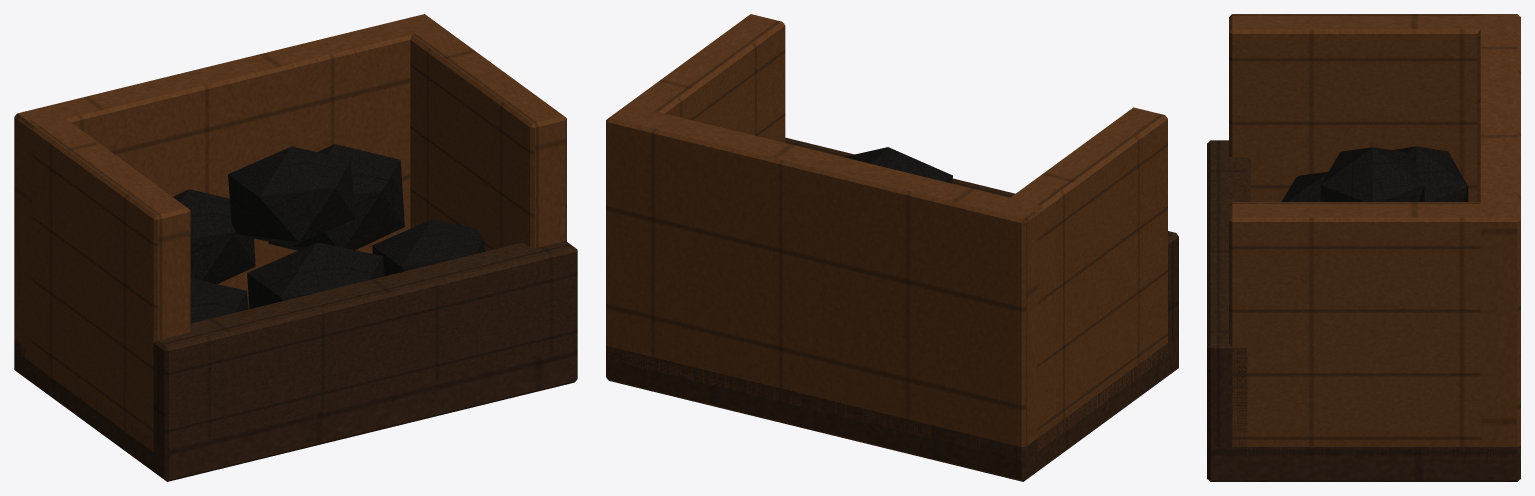
File: coal-bin.e2.glb
3 renders of one model, left to right at view 1: azimuth 30°, elevation 25°; view 2: azimuth 150°, elevation 25°; view 3: azimuth 270°, elevation 25°, orthographic. The views are drawn at different scales.
Parts seen in each view (by area): view 1: CoalBinE2; view 2: CoalBinE2; view 3: CoalBinE2.
Part boxes in pixels (bbox=[...]): CoalBinE2: bbox=[14, 14, 577, 481]; CoalBinE2: bbox=[606, 14, 1178, 481]; CoalBinE2: bbox=[1207, 14, 1520, 481].
Bounding box in the file's own units: 1.12 × 0.67 × 0.72.
Materials: 1 (1 with a texture image).
